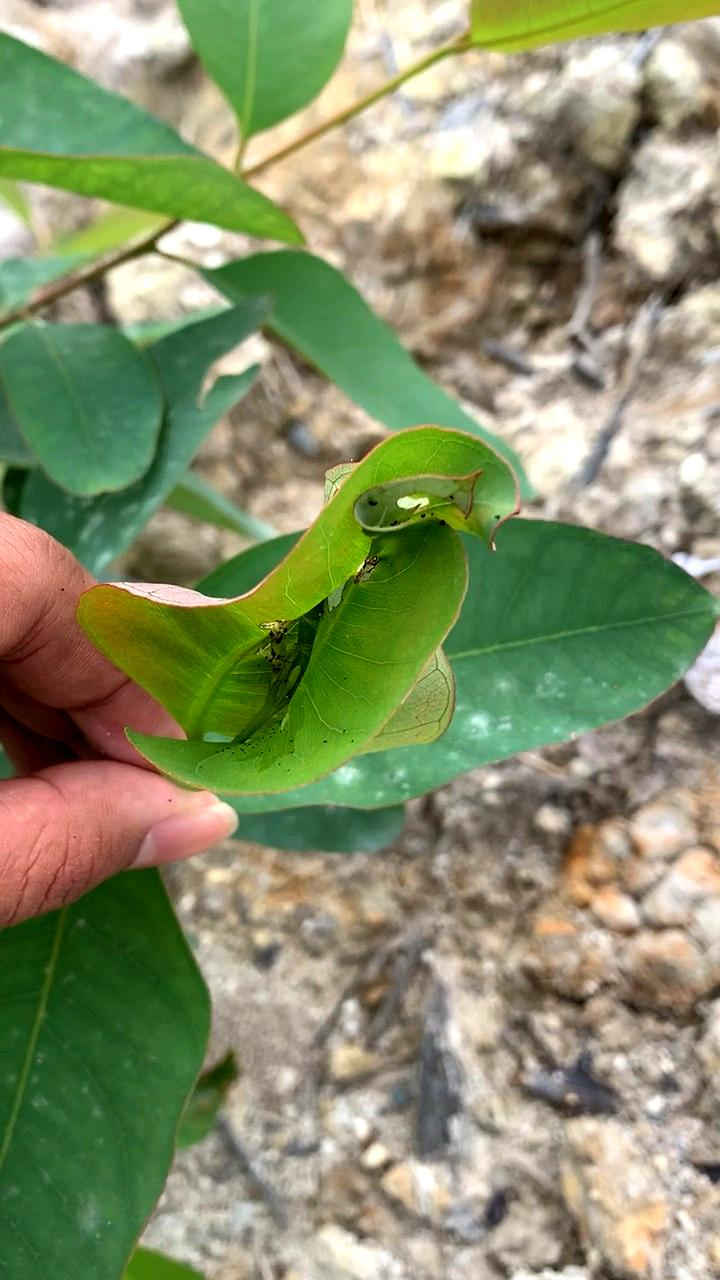Leaf Roller - Leaf: (71, 393, 546, 850)
